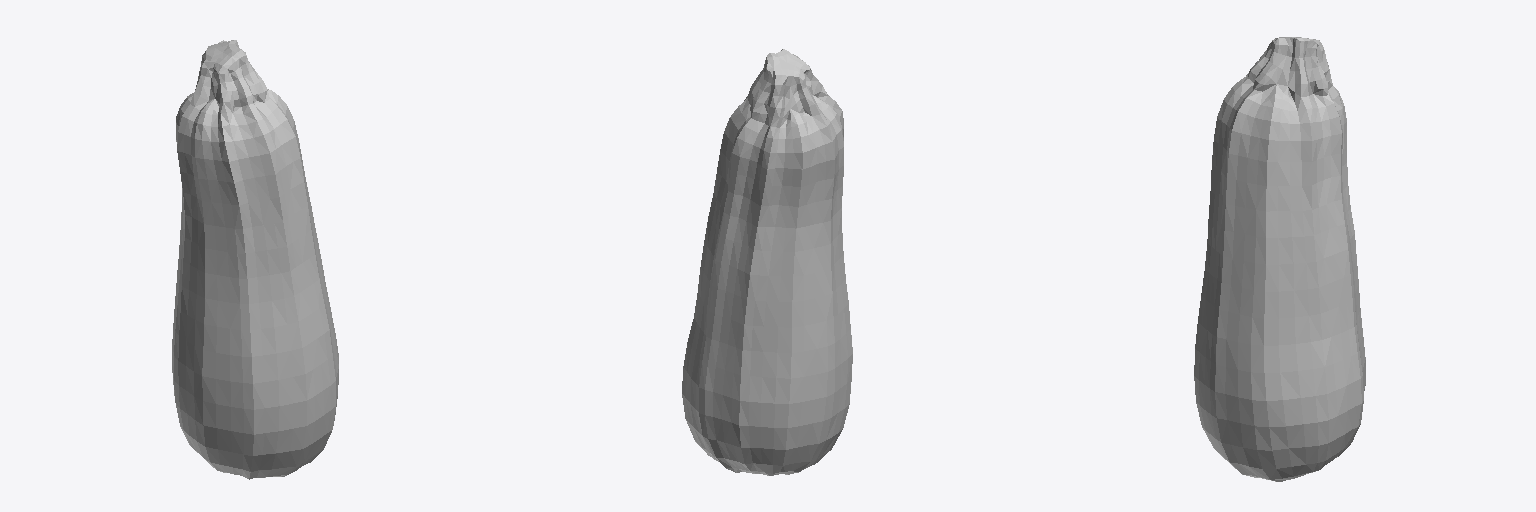
The model's file is Long_Zucchini_01_C.OBJ.
The picture shows the model from 3 angles: view 1: azimuth 30°, elevation 25°; view 2: azimuth 150°, elevation 25°; view 3: azimuth 270°, elevation 25°; orthographic projection.
Visible parts, largest first — view 1: ZBrushPolyMesh3D; view 2: ZBrushPolyMesh3D; view 3: ZBrushPolyMesh3D.
Part boxes in pixels (x1,y1,x2,y2): ZBrushPolyMesh3D: (172,40,338,479); ZBrushPolyMesh3D: (682,49,852,475); ZBrushPolyMesh3D: (1194,37,1365,481).
Bounding box in the file's own units: 8.35 × 23.21 × 8.52.